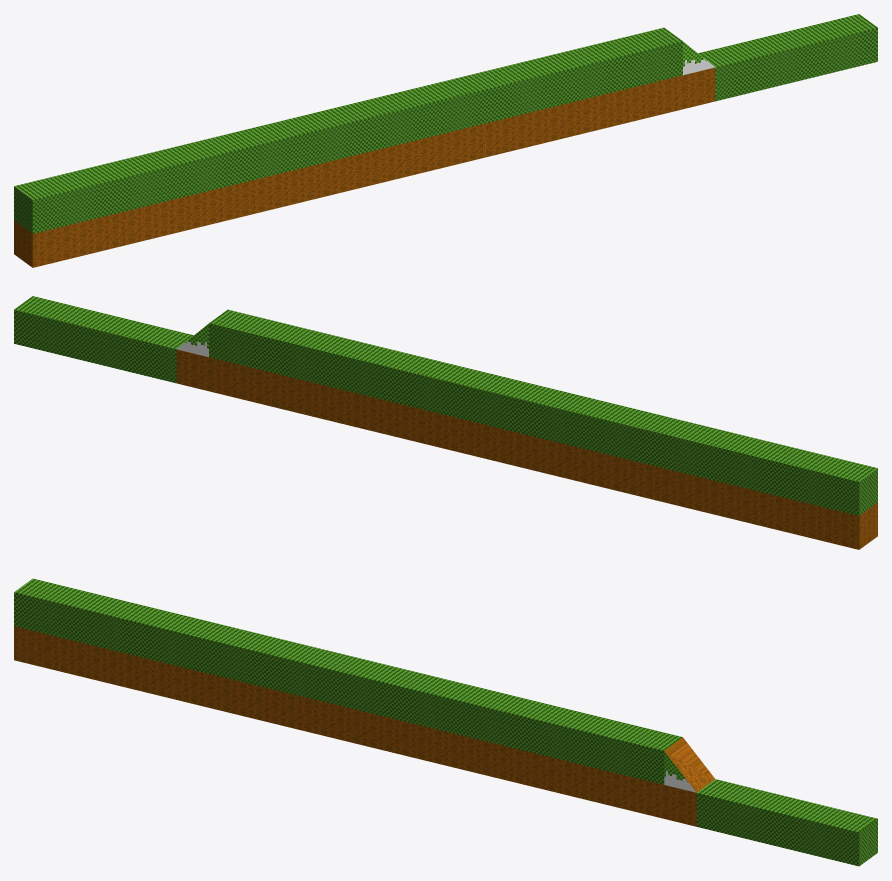
File: deletestage02.fbx
3 renders of one model, top to bottom at view 1: azimuth 30°, elevation 25°; view 2: azimuth 150°, elevation 25°; view 3: azimuth 330°, elevation 25°, orthographic.
Parts seen in each view (by area): view 1: polymsh35; view 2: polymsh35; view 3: polymsh35.
Boxes of the visible parts, x1=… form: polymsh35: x1=14, y1=14, x2=877, y2=267; polymsh35: x1=14, y1=296, x2=877, y2=549; polymsh35: x1=14, y1=578, x2=877, y2=866.
Bounding box in the file's own units: 2059 × 158 × 79.2.
